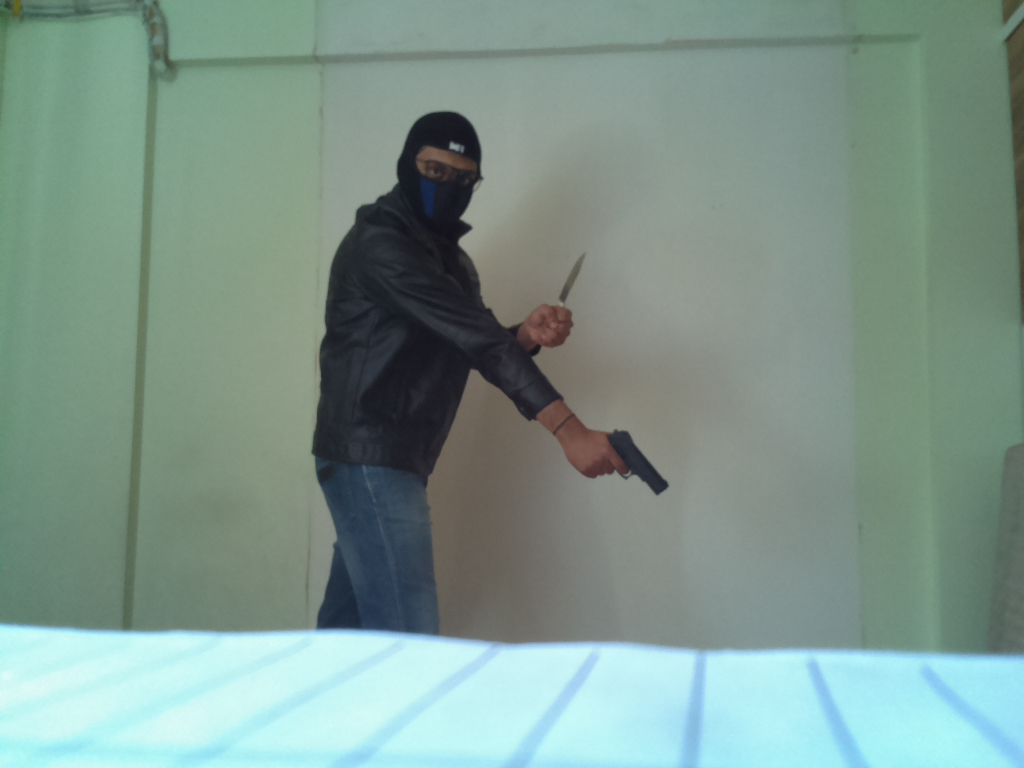gun: (590, 426, 672, 498)
knife: (548, 249, 590, 311)
